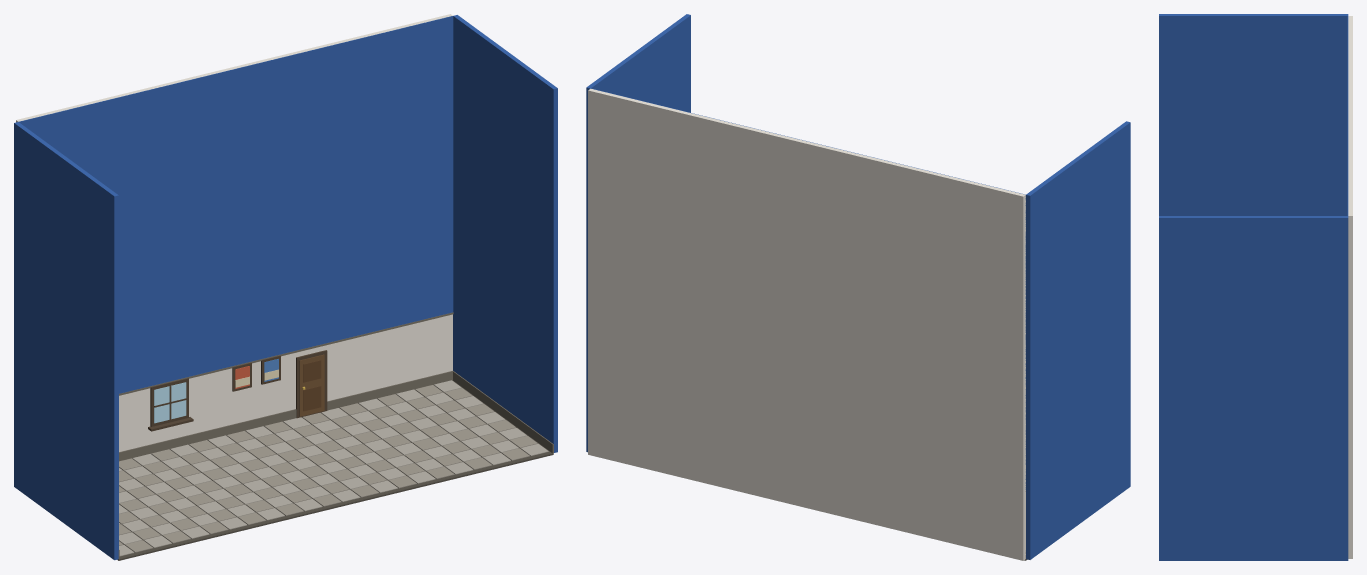
Rendered from room_russia_stone.glb.
3 renders of one model, left to right at view 1: azimuth 30°, elevation 25°; view 2: azimuth 150°, elevation 25°; view 3: azimuth 270°, elevation 25°, orthographic. The views are drawn at different scales.
Parts seen in each view (by area): view 1: room; view 2: room; view 3: room.
Boxes of the visible parts, bbox=[...] form: room: bbox=[14, 14, 557, 560]; room: bbox=[586, 14, 1130, 560]; room: bbox=[1159, 14, 1352, 560].
Size of the model in its own units: 30.6 by 24.11 by 12.3.
